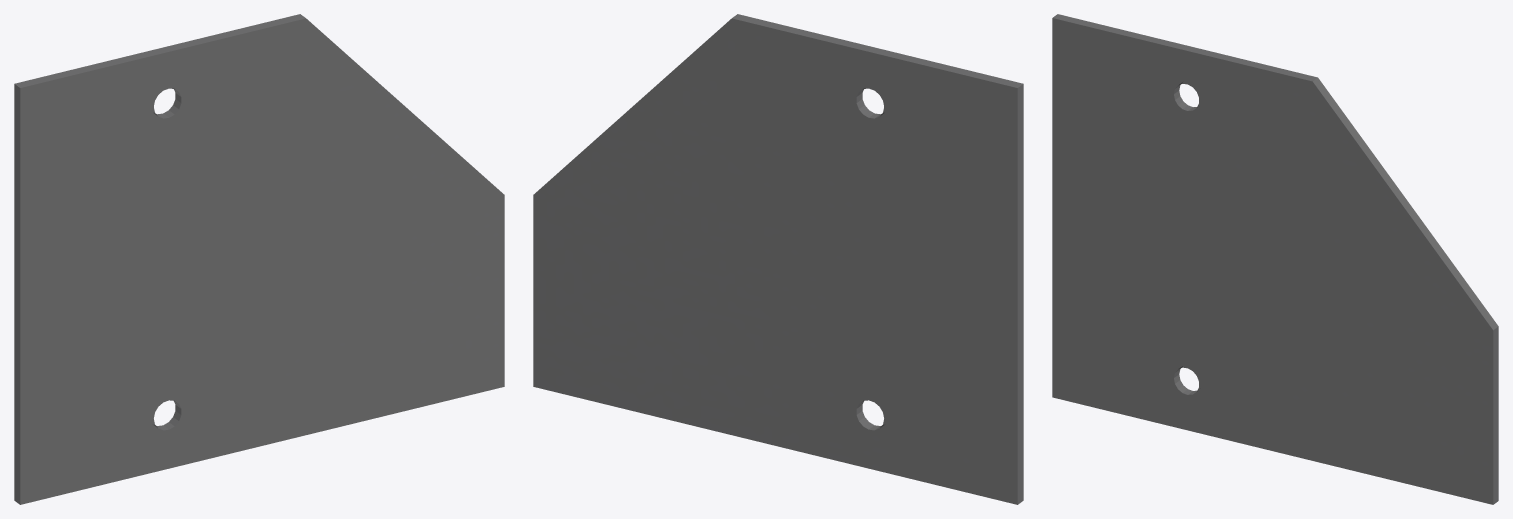
File: LeftDoor.glb
3 renders of one model, left to right at view 1: azimuth 30°, elevation 25°; view 2: azimuth 150°, elevation 25°; view 3: azimuth 330°, elevation 25°, orthographic. The views are drawn at different scales.
Visible parts, largest first — view 1: LeftDoor; view 2: LeftDoor; view 3: LeftDoor.
Boxes of the visible parts, <box> form: LeftDoor: <box>14,14,504,504</box>; LeftDoor: <box>533,14,1023,504</box>; LeftDoor: <box>1052,14,1498,504</box>.
Size of the model in its own units: 3.44 by 2.82 by 0.0733.
1 material, 1 textured.
